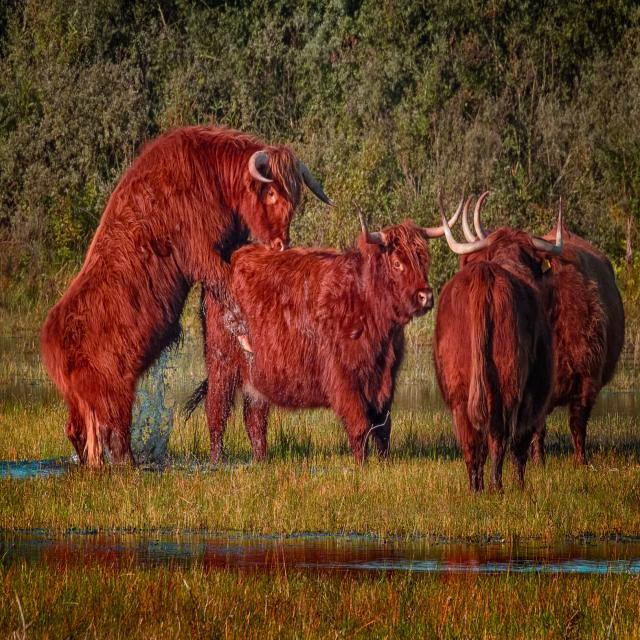cow: (41, 128, 329, 466), (190, 221, 439, 463), (434, 194, 562, 491), (544, 226, 625, 463)
